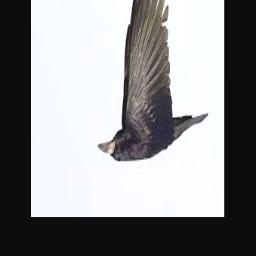Crow: (97, 0, 207, 162)
